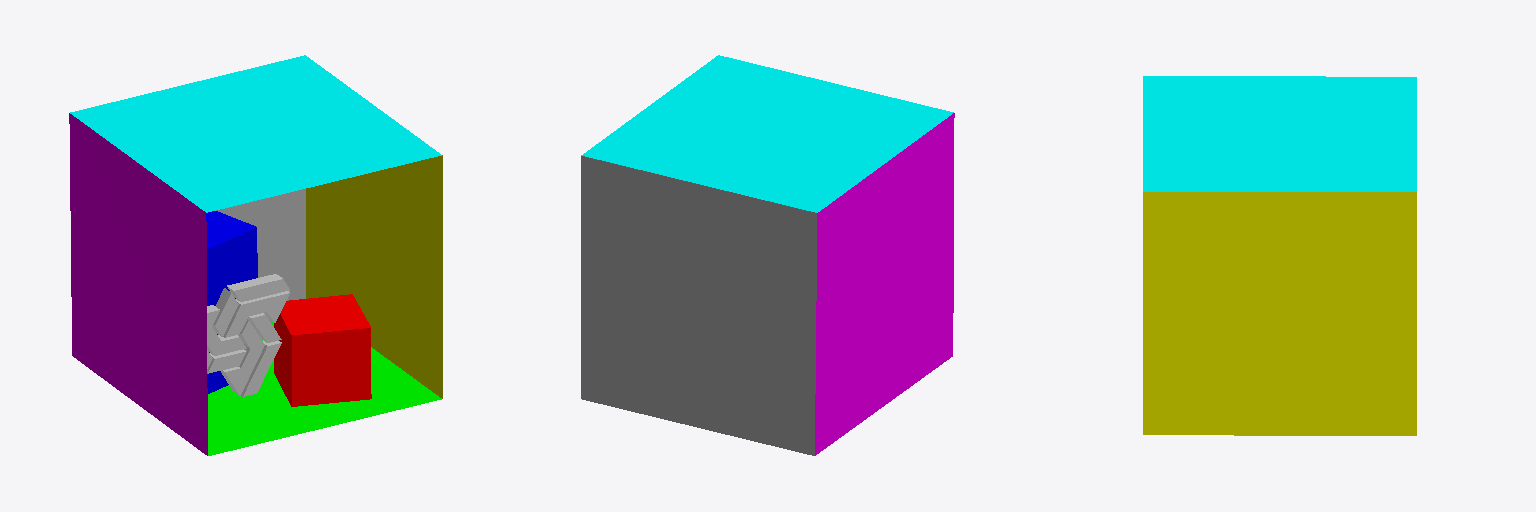
The picture shows the model from 3 angles: view 1: azimuth 30°, elevation 25°; view 2: azimuth 150°, elevation 25°; view 3: azimuth 270°, elevation 25°; orthographic projection.
Visible parts, largest first — view 1: left_wall, ceiling, right_wall, short_box, floor, logo, back_wall, tall_box; view 2: back_wall, left_wall, ceiling; view 3: right_wall, ceiling.
Boxes of the visible parts, <box> form: left_wall: <box>69,113,207,455</box>; ceiling: <box>70,55,441,212</box>; right_wall: <box>306,155,442,398</box>; short_box: <box>274,294,371,406</box>; floor: <box>208,313,441,455</box>; logo: <box>207,274,289,396</box>; back_wall: <box>216,189,305,300</box>; tall_box: <box>206,211,257,393</box>; back_wall: <box>581,156,816,455</box>; left_wall: <box>815,113,954,455</box>; ceiling: <box>581,55,953,212</box>; right_wall: <box>1143,192,1416,435</box>; ceiling: <box>1143,76,1416,191</box>.
Bounding box in the file's own units: 5.56 × 5.49 × 5.6.